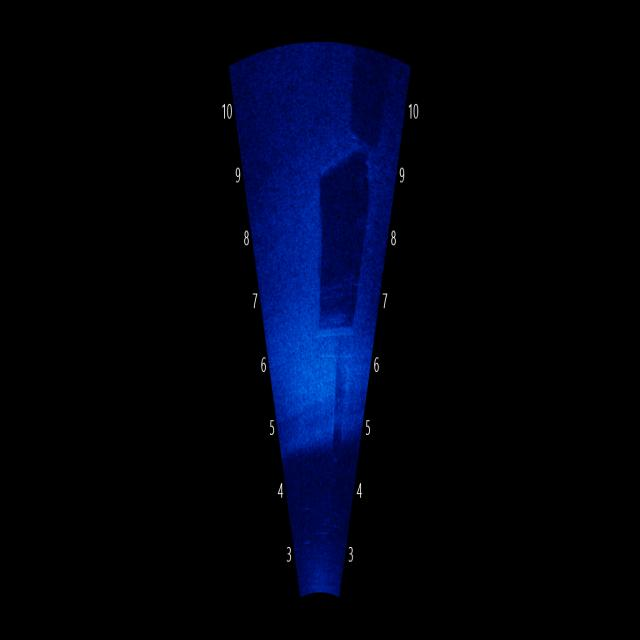square: (308, 160, 374, 354), (353, 52, 394, 146)
